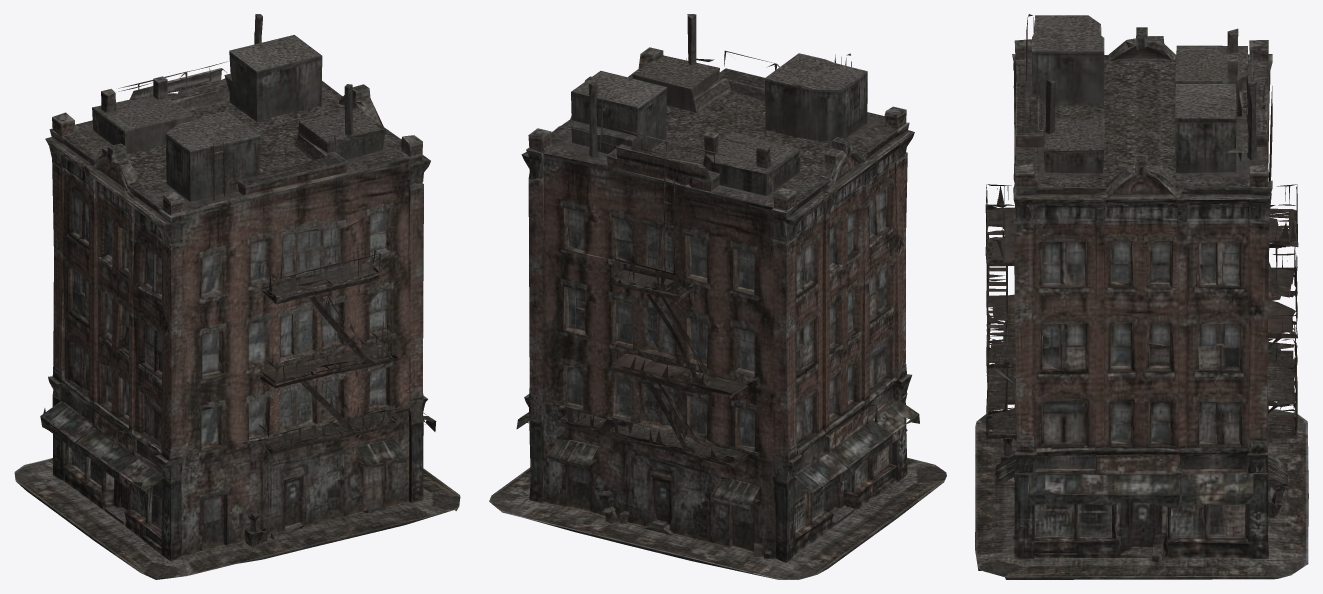
The model's file is corner_store.glb.
The picture shows the model from 3 angles, left to right: view 1: azimuth 30°, elevation 25°; view 2: azimuth 150°, elevation 25°; view 3: azimuth 270°, elevation 25°; orthographic projection. The views are drawn at different scales.
Parts seen in each view (by area): view 1: corner_store; view 2: corner_store; view 3: corner_store.
Boxes of the visible parts, <box> form: corner_store: <box>14,14,460,579</box>; corner_store: <box>489,14,946,579</box>; corner_store: <box>975,14,1308,579</box>.
Bounding box in the file's own units: 1.51 × 1.9 × 1.27.
Materials: 1 (1 with a texture image).
